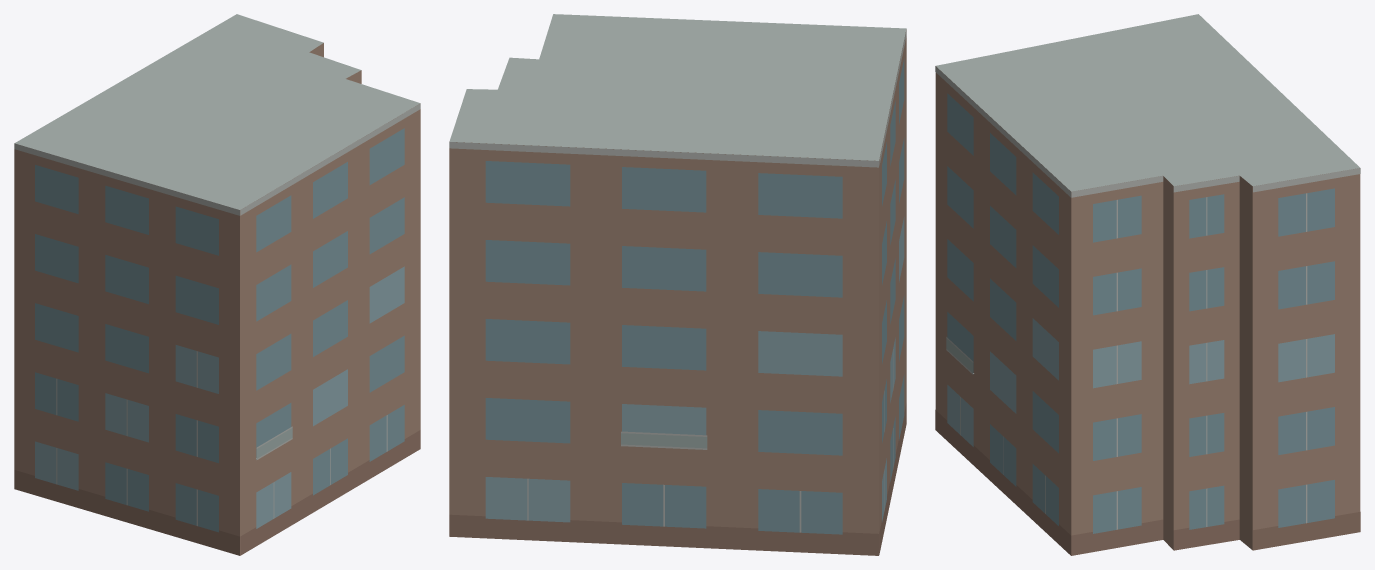
Rendered from survey-upis-32656749.glb.
3 renders of one model, left to right at view 1: azimuth 30°, elevation 25°; view 2: azimuth 150°, elevation 25°; view 3: azimuth 270°, elevation 25°, orthographic. The views are drawn at different scales.
Parts seen in each view (by area): view 1: survey-upis-32656749.tmp; view 2: survey-upis-32656749.tmp; view 3: survey-upis-32656749.tmp.
Part boxes in pixels (bbox=[...]): survey-upis-32656749.tmp: bbox=[14, 14, 420, 555]; survey-upis-32656749.tmp: bbox=[449, 14, 906, 555]; survey-upis-32656749.tmp: bbox=[935, 14, 1360, 555].
Size of the model in its own units: 15.18 by 14.5 by 15.34.
